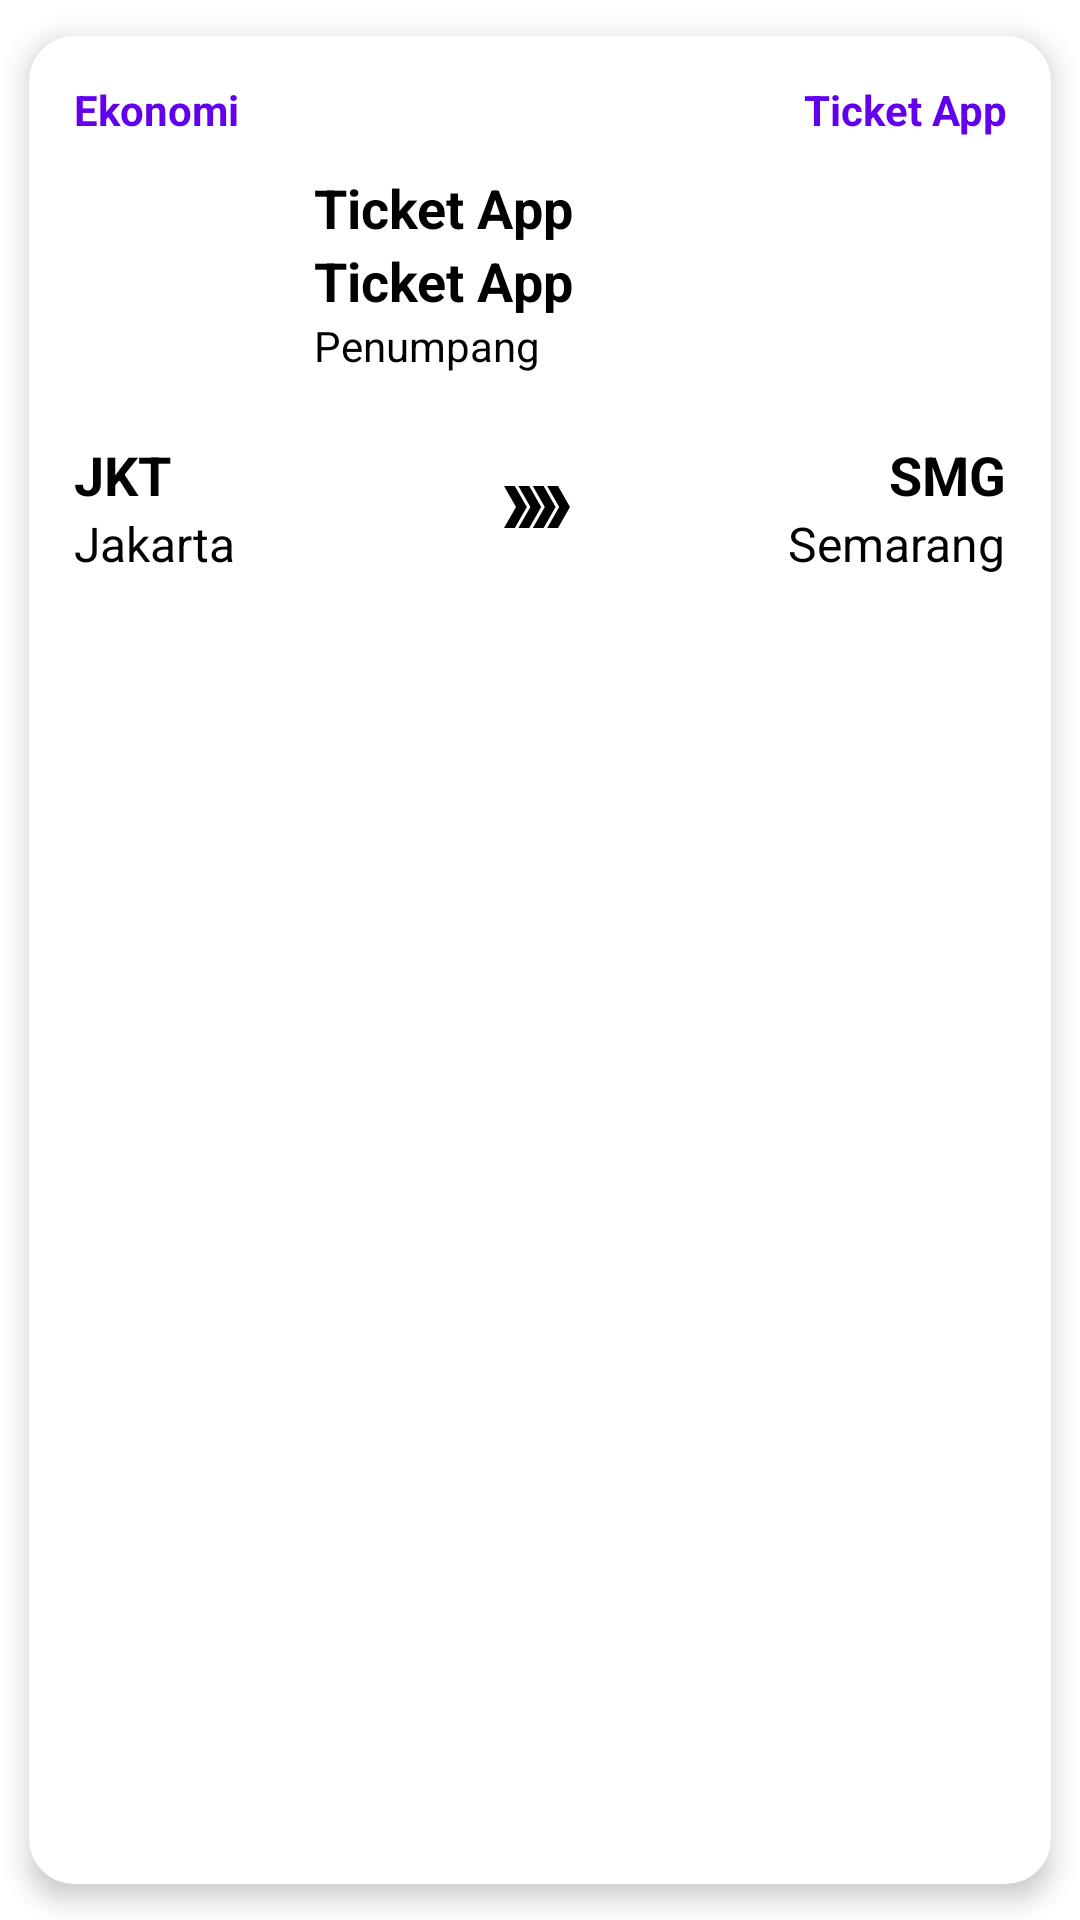

Named icons in this screenshot (1080*1920) and their centers, (x=x, y=y):
double arrow: (x=537, y=507)
